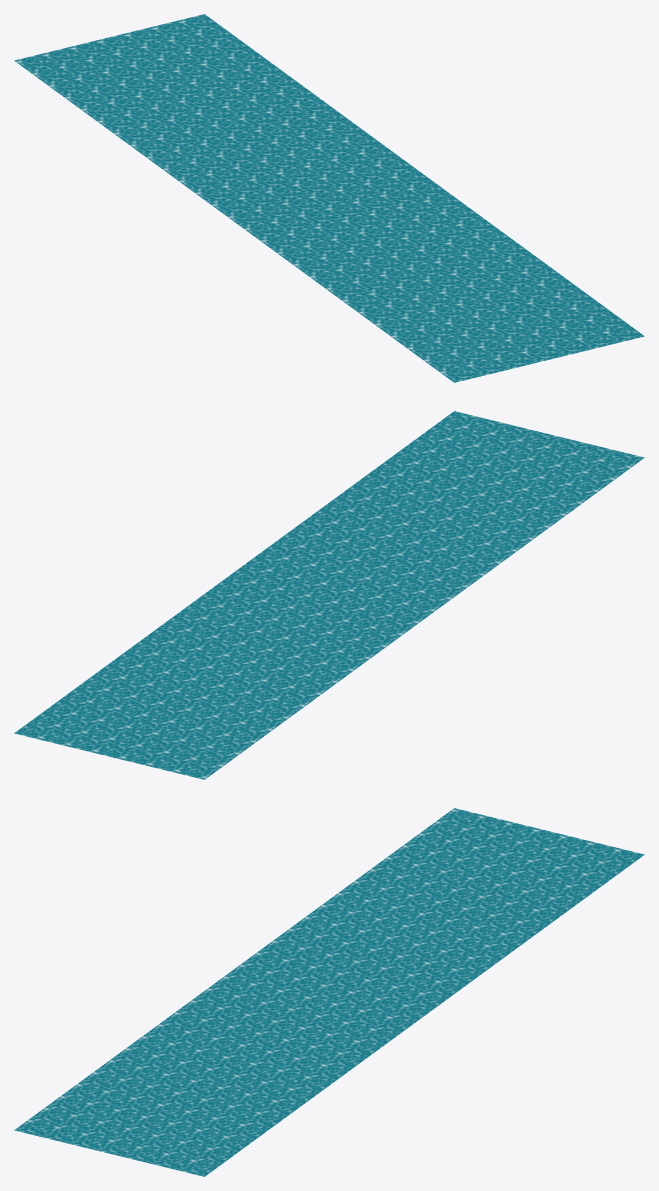
Rendered from riverMesh_VillagePart.fbx.
The picture shows the model from 3 angles, top to bottom: view 1: azimuth 30°, elevation 25°; view 2: azimuth 150°, elevation 25°; view 3: azimuth 330°, elevation 25°; orthographic projection.
Visible parts, largest first — view 1: riverMesh_VillagePart; view 2: riverMesh_VillagePart; view 3: riverMesh_VillagePart.
Boxes of the visible parts, bbox=[...] form: riverMesh_VillagePart: bbox=[14, 14, 644, 382]; riverMesh_VillagePart: bbox=[14, 411, 644, 779]; riverMesh_VillagePart: bbox=[14, 808, 644, 1176].
Size of the model in its own units: 50 by 4.44e-14 by 200.
Materials: 1 (1 with a texture image).
